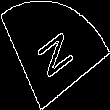N_SW: (31, 25, 79, 85)
